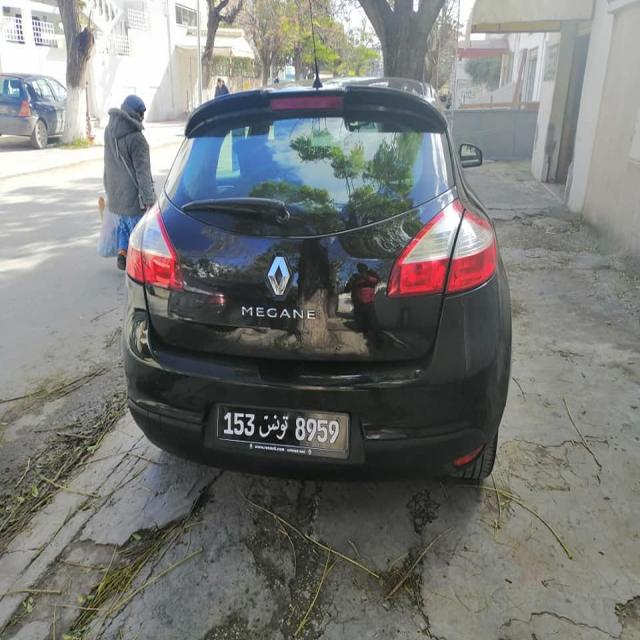LP: (215, 400, 348, 453)
